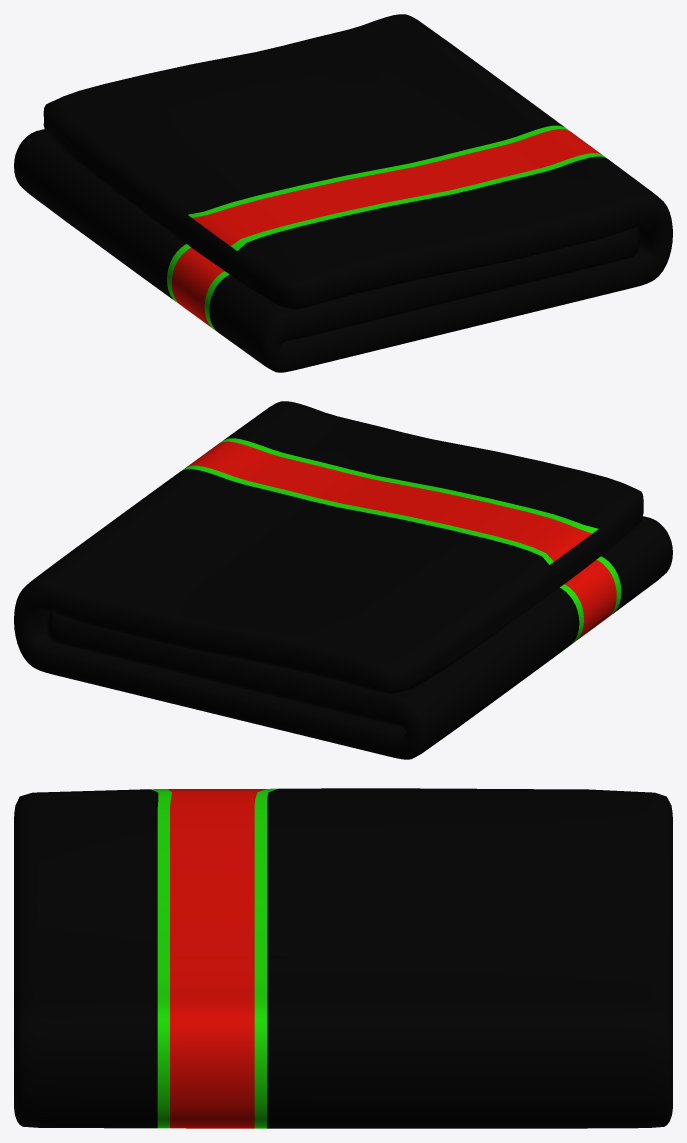
Rendered from Towel.fbx.
3 renders of one model, top to bottom at view 1: azimuth 30°, elevation 25°; view 2: azimuth 150°, elevation 25°; view 3: azimuth 270°, elevation 25°, orthographic. The views are drawn at different scales.
Parts seen in each view (by area): view 1: BézierCurve; view 2: BézierCurve; view 3: BézierCurve.
Boxes of the visible parts, x1,y1,x2,y2 form: BézierCurve: (14, 14, 672, 372); BézierCurve: (14, 401, 672, 759); BézierCurve: (14, 788, 672, 1128).
Size of the model in its own units: 580 by 125 by 621.
